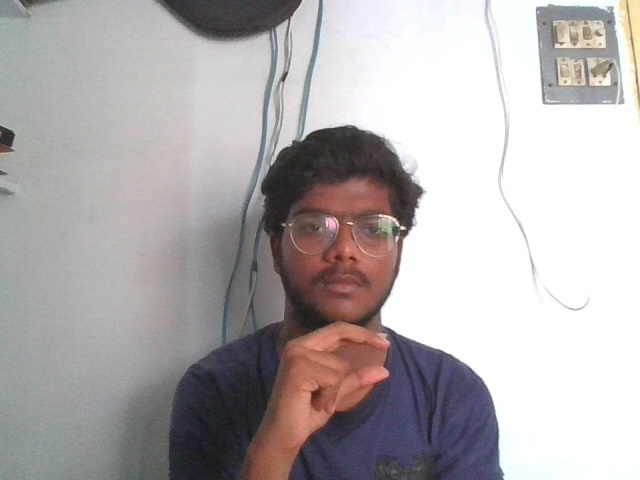No: (249, 317, 394, 426)
